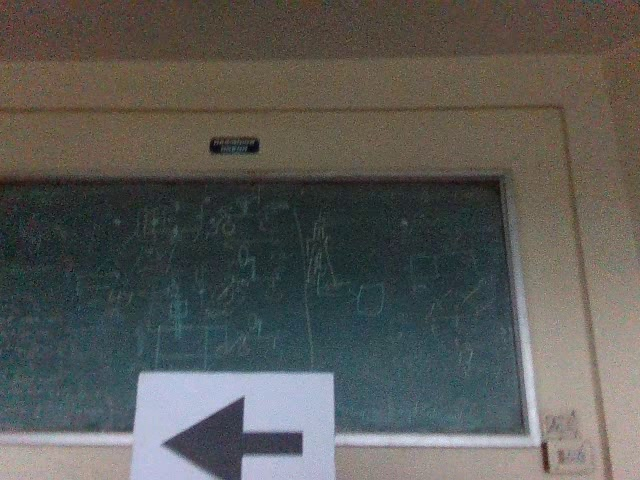Left: (155, 392, 309, 480)
